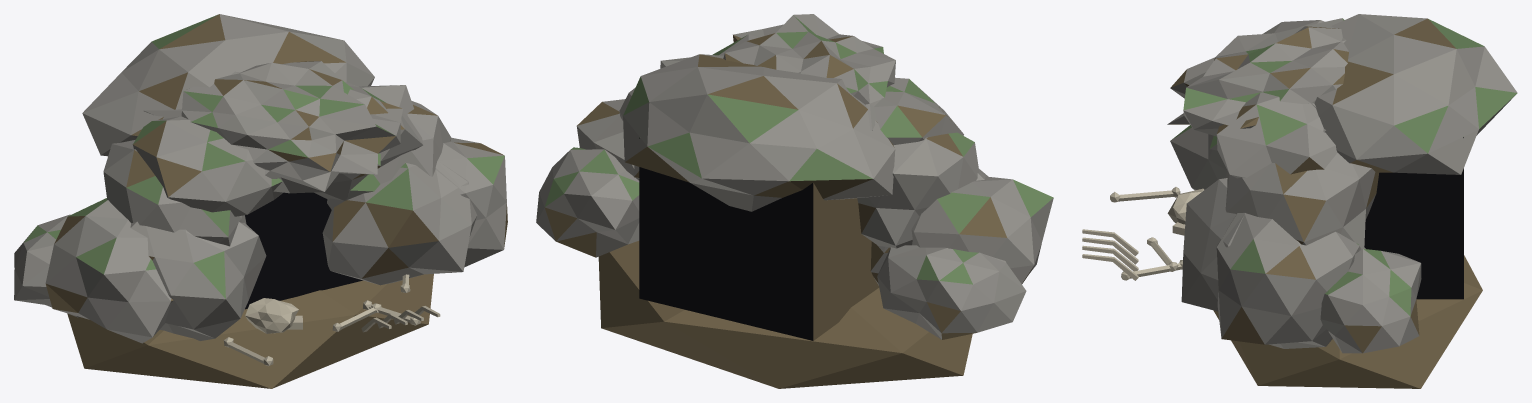
Rendered from set_den.glb.
The picture shows the model from 3 angles, left to right: view 1: azimuth 30°, elevation 25°; view 2: azimuth 150°, elevation 25°; view 3: azimuth 270°, elevation 25°; orthographic projection. The views are drawn at different scales.
Parts seen in each view (by area): view 1: set_den; view 2: set_den; view 3: set_den.
Part boxes in pixels (x1,y1,x2,y2): set_den: (14, 14, 507, 388); set_den: (536, 14, 1053, 388); set_den: (1082, 14, 1517, 388).
Bounding box in the file's own units: 7.04 × 4.39 × 5.59.
